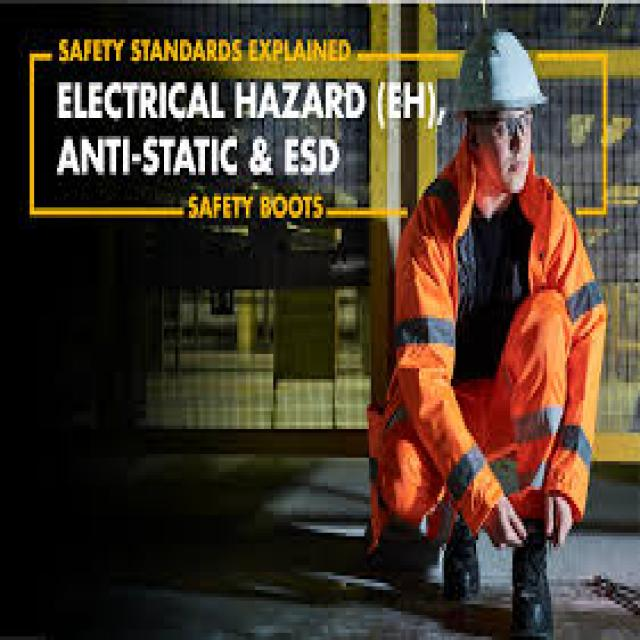shoes: (511, 518, 556, 640), (445, 519, 479, 603)
